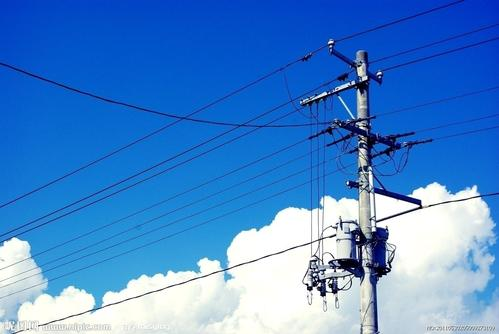utility_pole: (289, 29, 429, 217)
